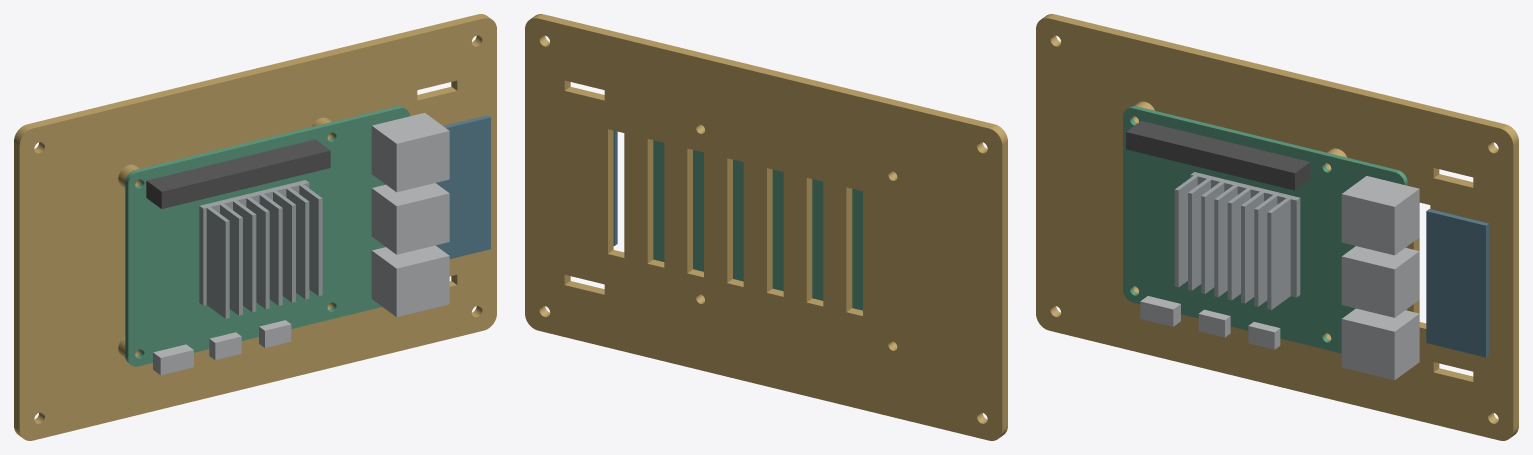
The model's file is setup-electronics.glb.
3 views of the same model, side by side, from view 1: azimuth 30°, elevation 25°; view 2: azimuth 150°, elevation 25°; view 3: azimuth 330°, elevation 25° (orthographic).
Visible parts, largest first — view 1: carrier, pi_board, ports, cooler, driver_board, gpio; view 2: carrier, pi_board, driver_board; view 3: carrier, pi_board, ports, cooler, driver_board, gpio.
Part boxes in pixels (x1=…): carrier: x1=14, y1=14, x2=496, y2=440; pi_board: x1=125, y1=106, x2=409, y2=366; ports: x1=153, y1=112, x2=449, y2=375; cooler: x1=199, y1=180, x2=322, y2=318; driver_board: x1=436, y1=115, x2=490, y2=258; gpio: x1=146, y1=139, x2=330, y2=208; carrier: x1=525, y1=14, x2=1007, y2=440; pi_board: x1=653, y1=140, x2=862, y2=310; driver_board: x1=613, y1=130, x2=617, y2=245; carrier: x1=1036, y1=14, x2=1518, y2=440; pi_board: x1=1123, y1=106, x2=1407, y2=353; ports: x1=1140, y1=176, x2=1419, y2=380; cooler: x1=1174, y1=172, x2=1300, y2=310; driver_board: x1=1426, y1=209, x2=1488, y2=357; gpio: x1=1126, y1=121, x2=1310, y2=190.
Size of the model in its own units: 0.144 by 0.09 by 0.0216.
